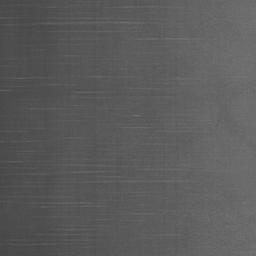Waist folding: (0, 139, 212, 205), (0, 3, 196, 42), (0, 74, 169, 97), (0, 228, 92, 247), (31, 106, 57, 111), (133, 212, 154, 216), (242, 200, 256, 205)
